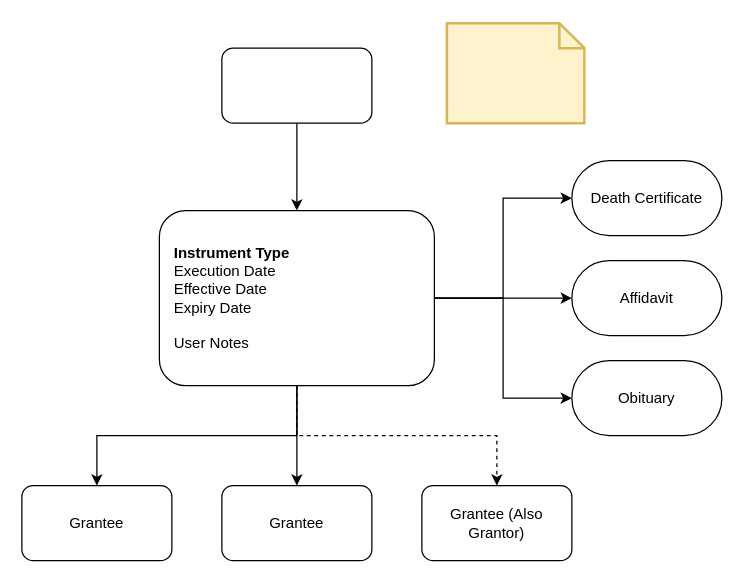
Some shapes in this 744 by 583 pixel diagram are drawn without their labels. The shapes that lost their labels are listed below. From the top down, each one's box as (x1, y1, x2, y2) in pixels, then its label:
(221, 47, 372, 123): Grantor
(445, 21, 585, 124): Sticky Note
